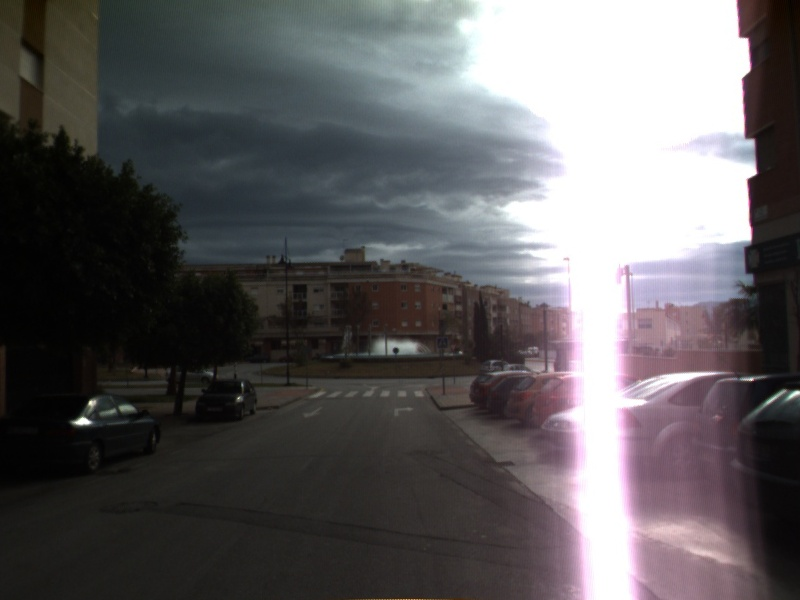RIGHT: (392, 404, 416, 418)
